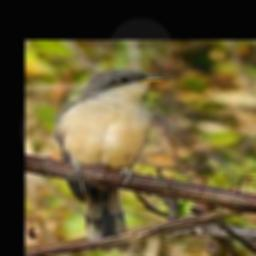Cuckoo: (52, 69, 170, 252)
